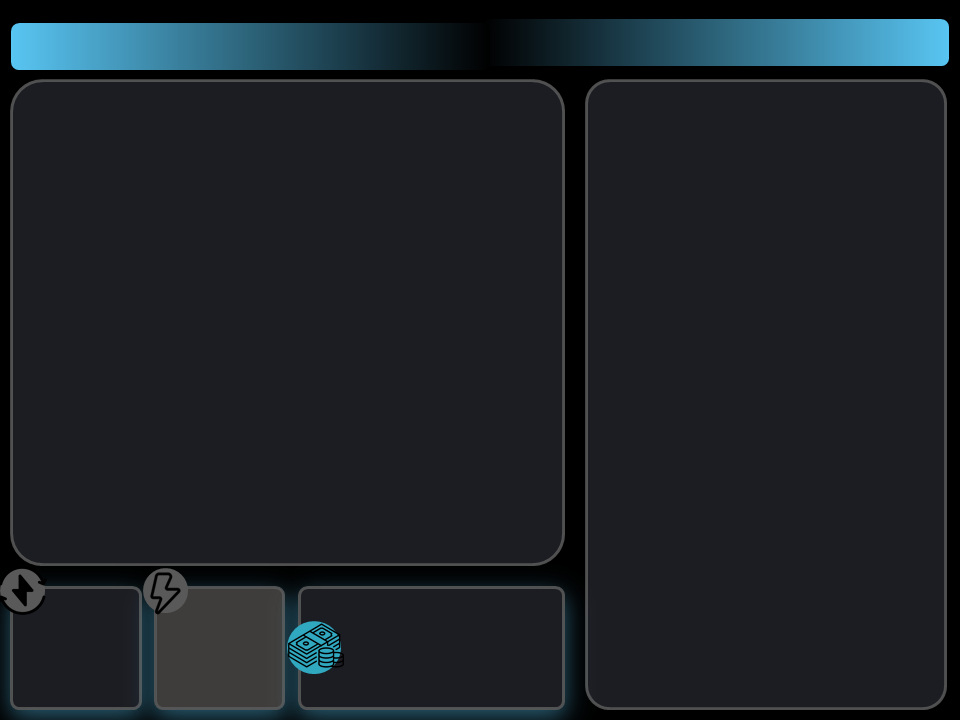

This screenshot's page, from the dashboard's own definition file:
{"tool":"powerbi","page":{"name":"Energy Report","canvas":[1280,720],"ordinal":0},"visuals":[{"type":"shape","box":[28.8,468,231.8,80.6],"z":0},{"type":"shape","box":[28.8,388.8,231.8,80.6],"z":1000},{"type":"shape","box":[28.8,288,231.8,80.6],"z":2000},{"type":"shape","box":[28.8,198.7,231.8,80.6],"z":3000},{"type":"shape","box":[28.8,93.6,231.8,86.4],"z":4000},{"type":"cardVisual","fields":{"Data":["DaxHouse.Total Energy Consumption (kwh)","DaxHouse.Renewable Energy (kwh)","DaxHouse.Non Renewable Energy (kwh)","DaxHouse.Emisson Factor (kg CO2/kwh)","DaxHouse.Energy Cost per kwh"]},"box":[28.8,93.6,231.8,469.4],"z":5000},{"type":"clusteredColumnChart","fields":{"Category":["Data.Location","Year Table.Year"],"Y":["Year Table.Yoy Change"]},"box":[260.6,227.5,485.3,321.1],"z":6000},{"type":"slicer","fields":{"Values":["Switch.Switch"]},"box":[514.1,93.6,221.8,64.8],"z":7000},{"type":"card","fields":{"Values":["DaxHouse.% Renewable Energy Share"]},"box":[70.6,650.9,95,49],"z":7001},{"type":"card","fields":{"Values":["DaxHouse.% Non Renewable Energy Share"]},"box":[252,650.9,110.9,53.3],"z":7002},{"type":"textbox","box":[60.5,586.1,115.2,53.3],"z":7003},{"type":"textbox","box":[236.2,586.1,141.1,77.8],"z":7004},{"type":"card","fields":{"Values":["DaxHouse.Total Energy cost"]},"box":[486.7,639.4,122.4,53.3],"z":7005},{"type":"textbox","box":[486.7,596.2,181.4,54.7],"z":7006},{"type":"lineChart","fields":{"Category":["Date Table.Month"],"Y":["DaxHouse.Renewable Energy (kwh)"]},"box":[799.2,93.6,447.8,312.5],"z":7007},{"type":"barChart","fields":{"Category":["Date Table.Season"],"Y":["DaxHouse.Renewable Energy (kwh)"]},"box":[799.2,430.6,447.8,263.5],"z":7008},{"type":"textbox","box":[18.7,21.6,334.1,50.4],"z":7009},{"type":"card","fields":{"Values":["DaxHouse.Energy Cost Summary"]},"box":[560.2,13,720,59],"z":7010}]}

Visuals, with their boxes on the page's 1280x720 design canvas (x1, y1, x2, y2). These are canvas units, not pixel positions in the 960x720 screenshot, which may show the page scaled, cropped or inside an application window:
shape: l=29, t=468, r=261, b=549
shape: l=29, t=389, r=261, b=469
shape: l=29, t=288, r=261, b=369
shape: l=29, t=199, r=261, b=279
shape: l=29, t=94, r=261, b=180
cardVisual - DaxHouse.Total Energy Consumption (kwh) x DaxHouse.Renewable Energy (kwh): l=29, t=94, r=261, b=563
clusteredColumnChart - Data.Location x Year Table.Year: l=261, t=228, r=746, b=549
slicer - Switch.Switch: l=514, t=94, r=736, b=158
card - DaxHouse.% Renewable Energy Share: l=71, t=651, r=166, b=700
card - DaxHouse.% Non Renewable Energy Share: l=252, t=651, r=363, b=704
textbox: l=60, t=586, r=176, b=639
textbox: l=236, t=586, r=377, b=664
card - DaxHouse.Total Energy cost: l=487, t=639, r=609, b=693
textbox: l=487, t=596, r=668, b=651
lineChart - Date Table.Month x DaxHouse.Renewable Energy (kwh): l=799, t=94, r=1247, b=406
barChart - Date Table.Season x DaxHouse.Renewable Energy (kwh): l=799, t=431, r=1247, b=694
textbox: l=19, t=22, r=353, b=72
card - DaxHouse.Energy Cost Summary: l=560, t=13, r=1280, b=72
